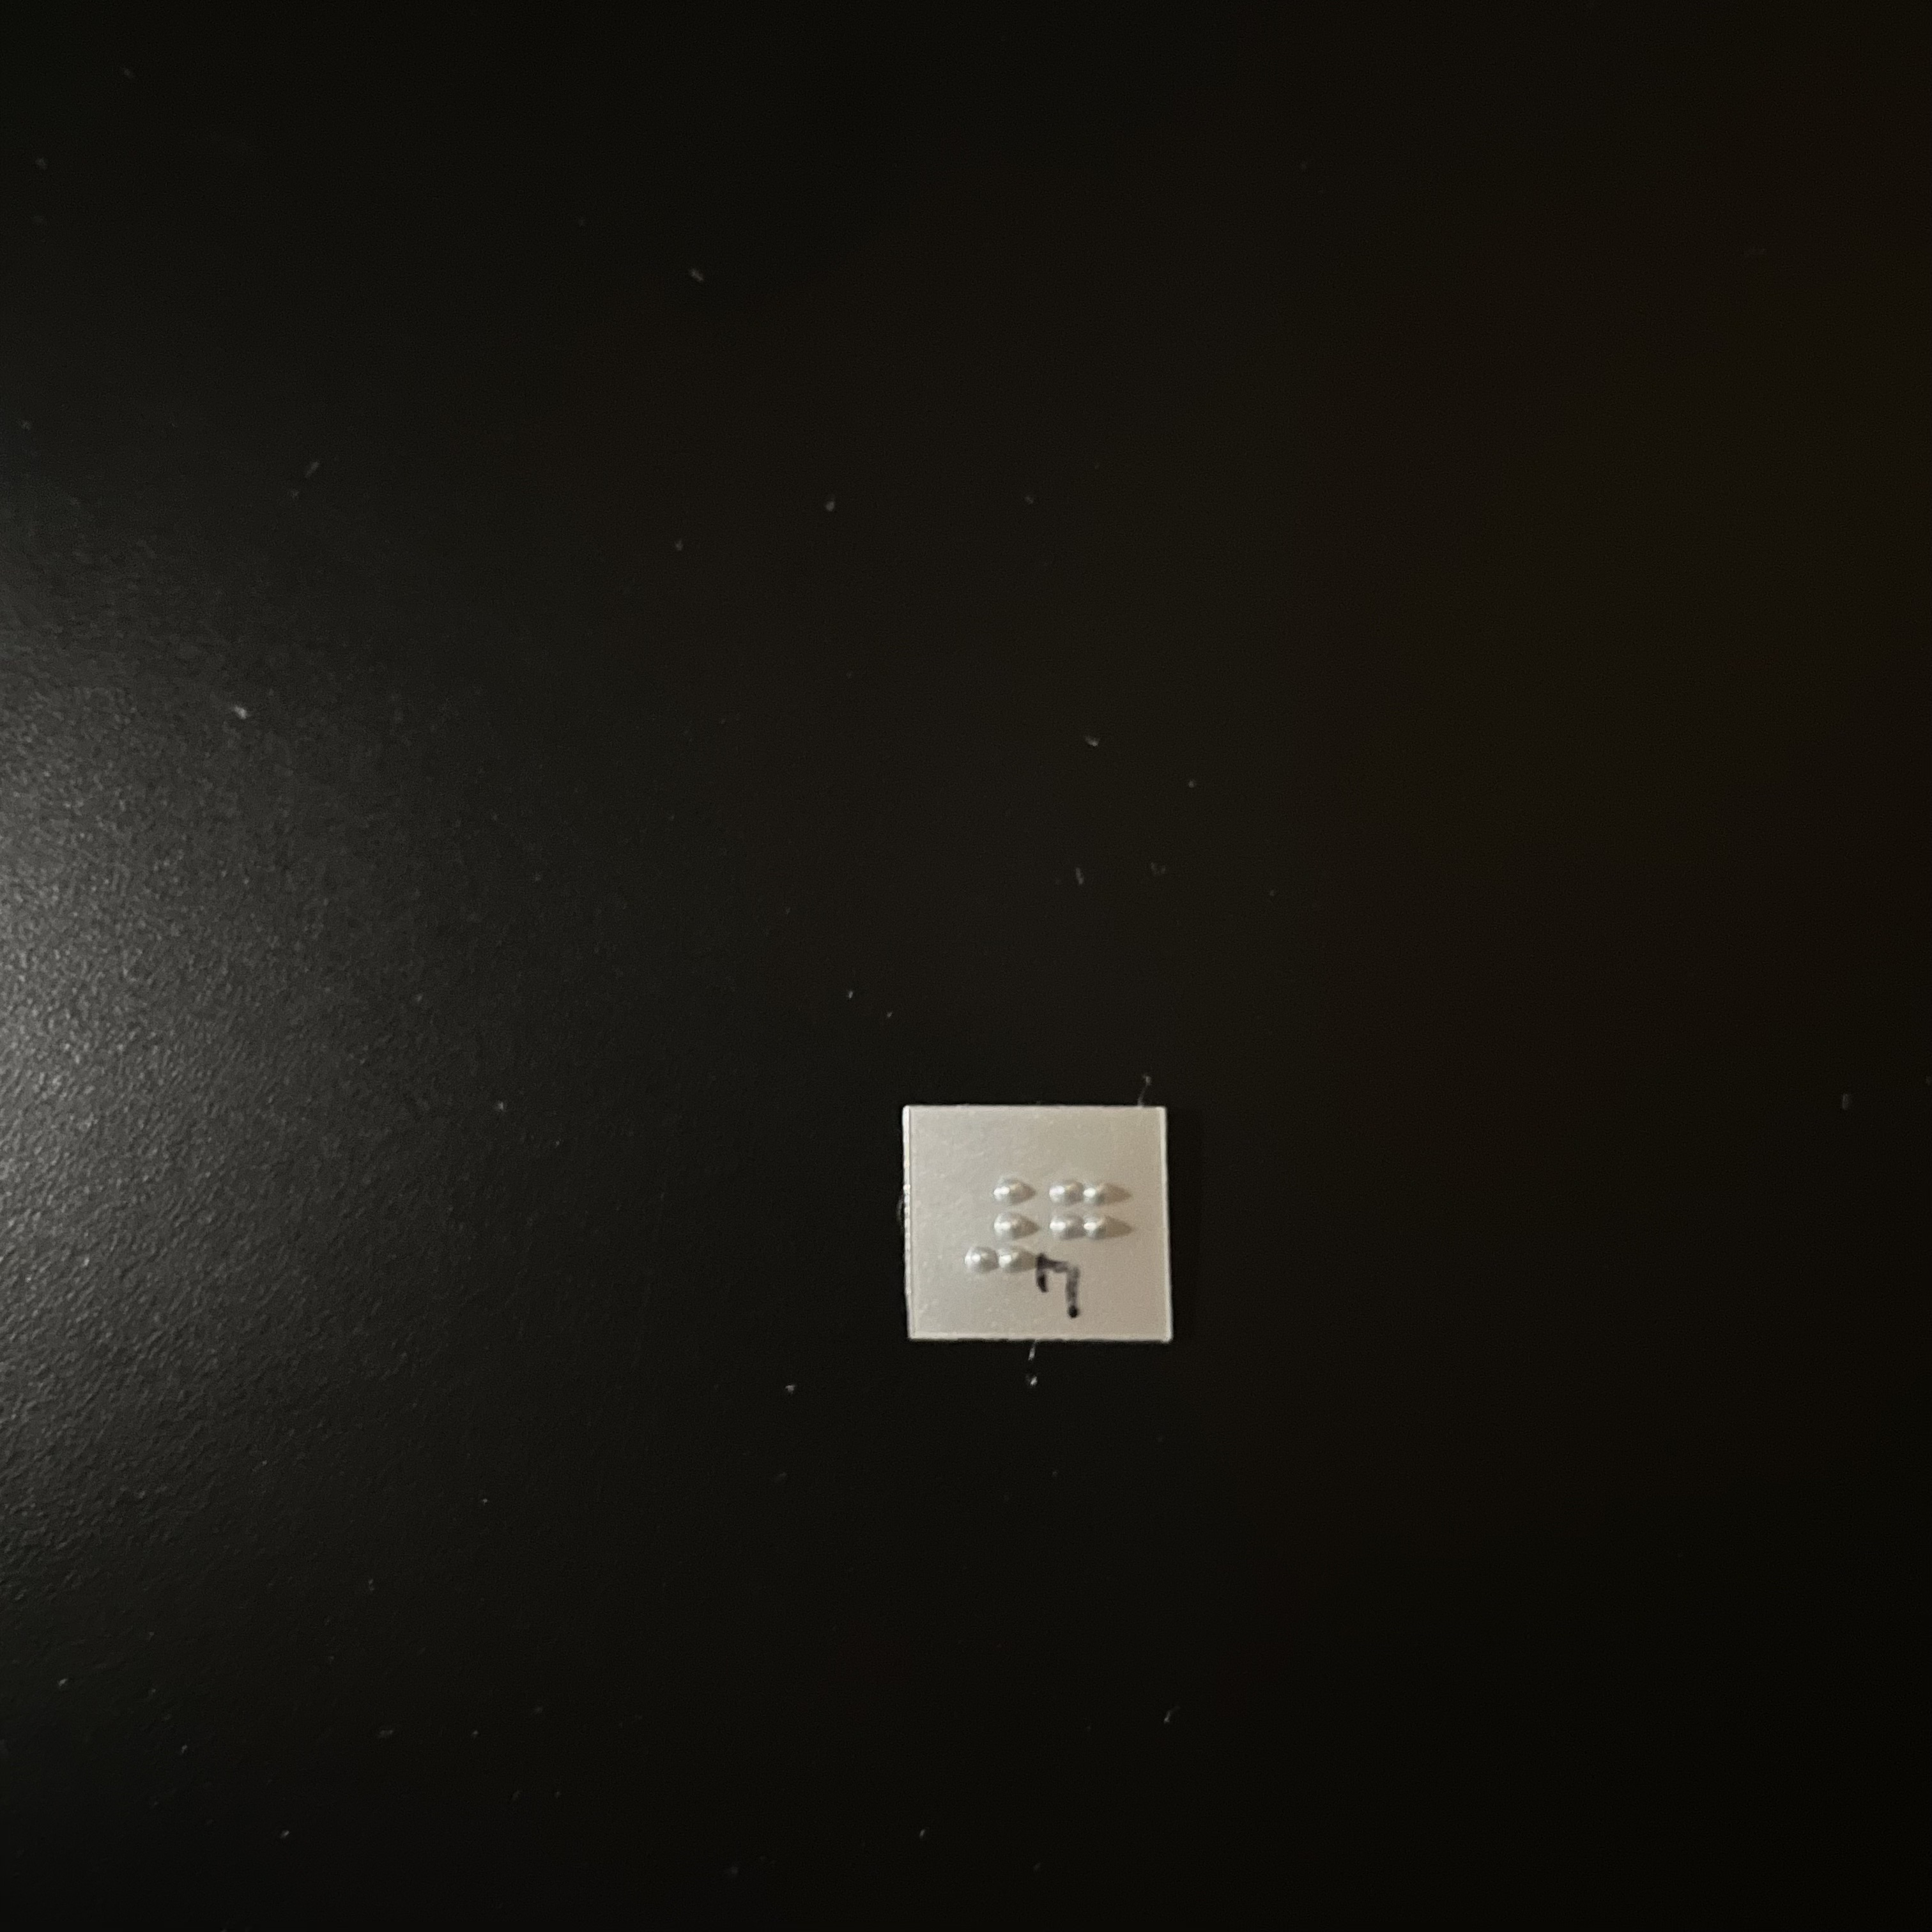#: (967, 1172, 1045, 1282)
g: (1045, 1172, 1117, 1286)
